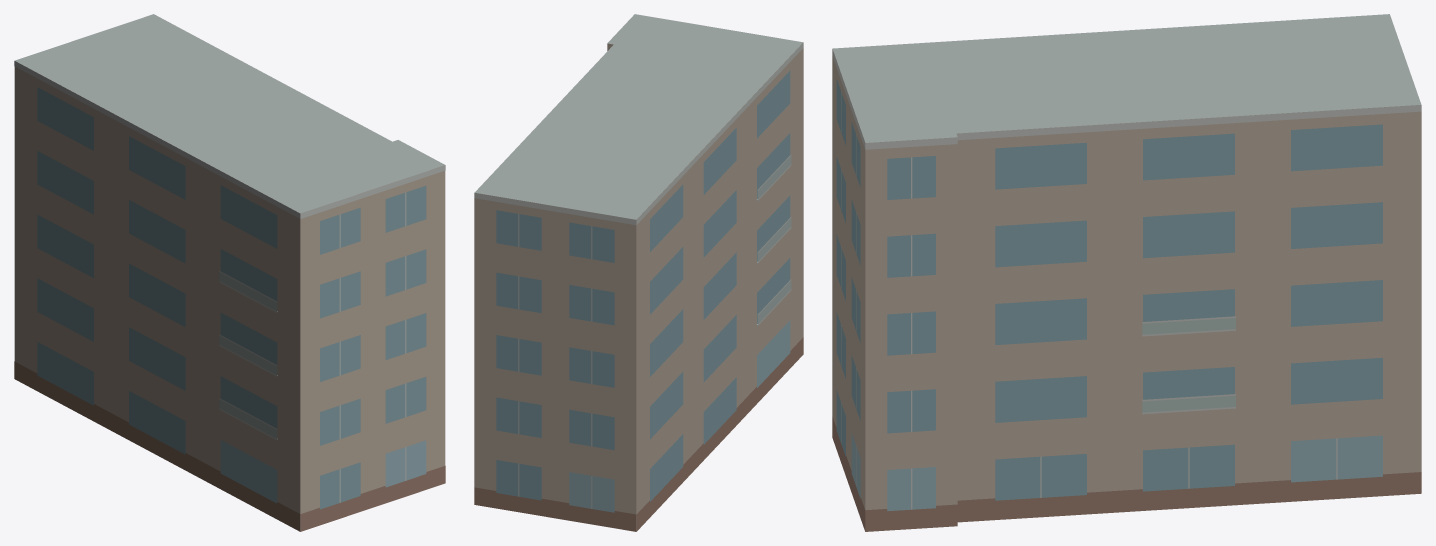
Rendered from survey-upis-33003449.glb.
3 views of the same model, side by side, from view 1: azimuth 30°, elevation 25°; view 2: azimuth 150°, elevation 25°; view 3: azimuth 270°, elevation 25° (orthographic). The views are drawn at different scales.
Visible parts, largest first — view 1: survey-upis-33003449.tmp; view 2: survey-upis-33003449.tmp; view 3: survey-upis-33003449.tmp.
Boxes of the visible parts, left/top/right/bottom form: survey-upis-33003449.tmp: left=14, top=14, right=445, bottom=531; survey-upis-33003449.tmp: left=474, top=14, right=803, bottom=531; survey-upis-33003449.tmp: left=832, top=14, right=1421, bottom=531.
Bounding box in the file's own units: 9.97 × 14 × 19.23.
